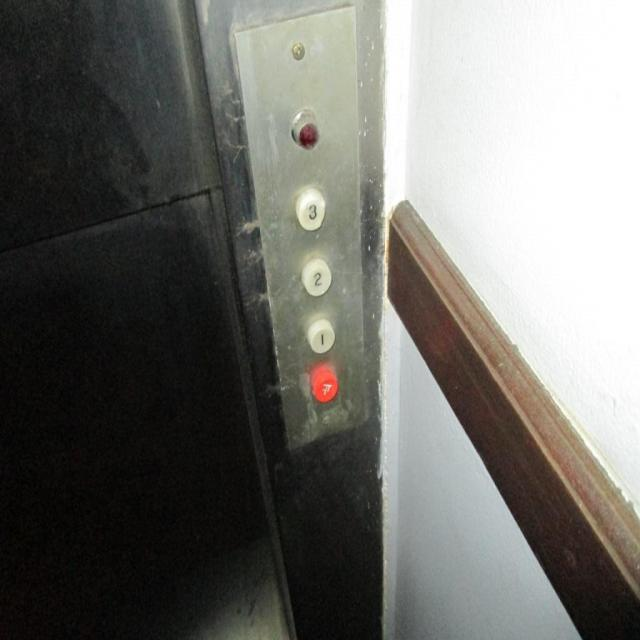1: (305, 318, 334, 354)
2: (300, 256, 332, 296)
3: (294, 184, 328, 233)
indicator: (290, 106, 320, 150)
unknown: (310, 368, 338, 403)
